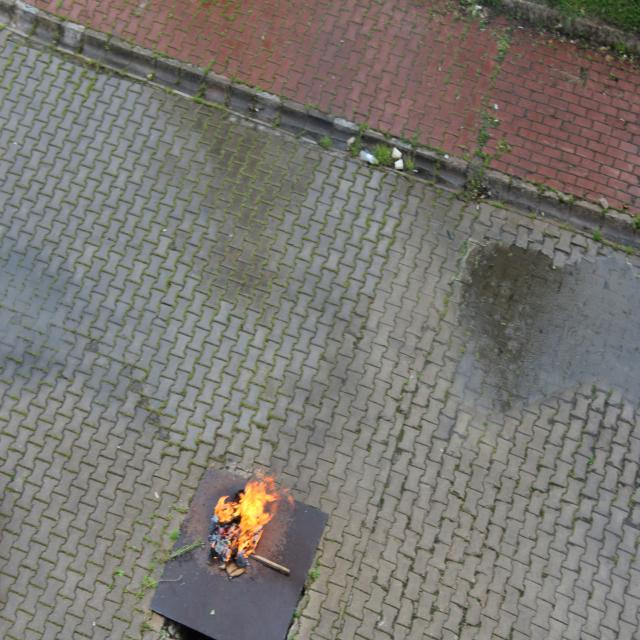fire: (219, 474, 275, 576)
